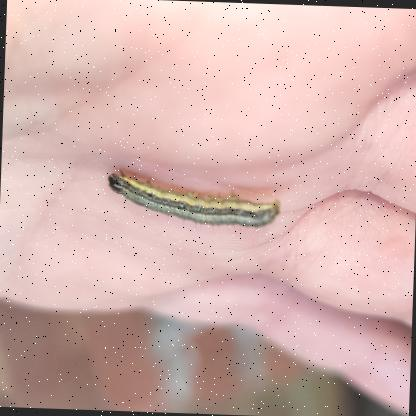Fall Armyworm Larvae: (104, 166, 286, 236)
